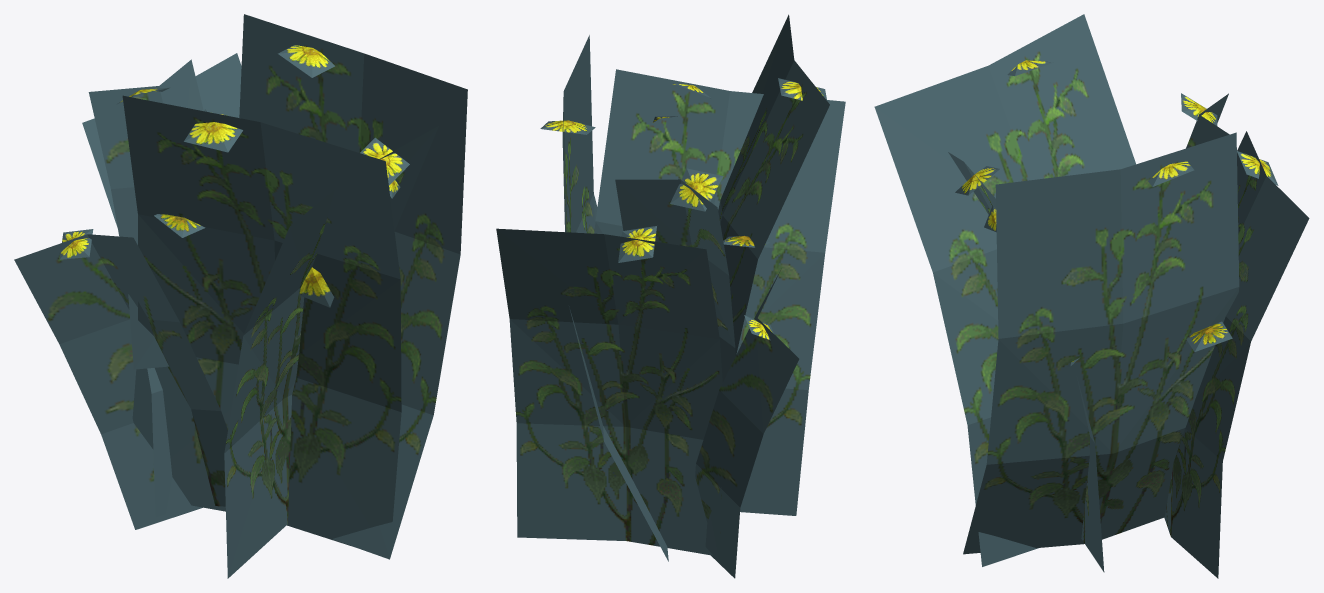
The model's file is 4006_Item_hua_1.FBX.
3 renders of one model, left to right at view 1: azimuth 30°, elevation 25°; view 2: azimuth 150°, elevation 25°; view 3: azimuth 270°, elevation 25°, orthographic. The views are drawn at different scales.
Visible parts, largest first — view 1: 4006_Item_hua_1; view 2: 4006_Item_hua_1; view 3: 4006_Item_hua_1.
Part boxes in pixels (x1,y1,x2,y2): 4006_Item_hua_1: (14, 14, 467, 578); 4006_Item_hua_1: (496, 14, 845, 578); 4006_Item_hua_1: (874, 14, 1309, 578).
Size of the model in its own units: 102 by 138 by 119.
